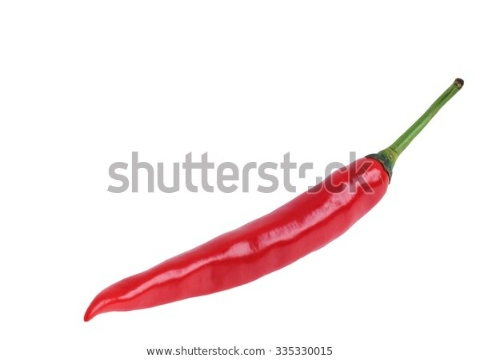Chilli: (67, 75, 464, 329)
